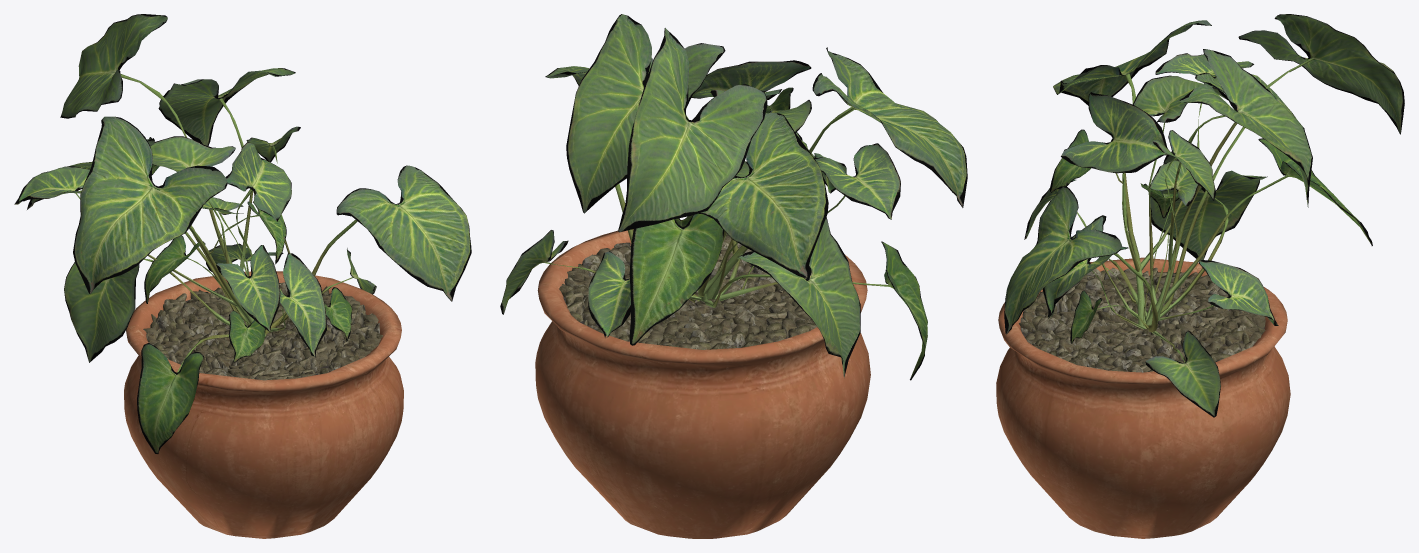
The model's file is potted_plant_02-high.glb.
The picture shows the model from 3 angles, left to right: view 1: azimuth 30°, elevation 25°; view 2: azimuth 150°, elevation 25°; view 3: azimuth 270°, elevation 25°; orthographic projection. The views are drawn at different scales.
Parts seen in each view (by area): view 1: potted_plant_02_leaves, potted_plant_02_pot, potted_plant_02_dirt; view 2: potted_plant_02_leaves, potted_plant_02_pot, potted_plant_02_dirt; view 3: potted_plant_02_leaves, potted_plant_02_pot, potted_plant_02_dirt.
Boxes of the visible parts, x1,y1,x2,y2 form: potted_plant_02_leaves: [14, 14, 471, 453]; potted_plant_02_pot: [124, 271, 403, 538]; potted_plant_02_dirt: [143, 282, 382, 380]; potted_plant_02_leaves: [500, 14, 967, 380]; potted_plant_02_pot: [535, 220, 870, 538]; potted_plant_02_dirt: [559, 233, 816, 349]; potted_plant_02_leaves: [1004, 14, 1404, 417]; potted_plant_02_pot: [996, 257, 1290, 538]; potted_plant_02_dirt: [1019, 267, 1265, 372].
Bounding box in the file's own units: 0.7009 × 0.8412 × 0.6561.
2 materials, 2 textured.
